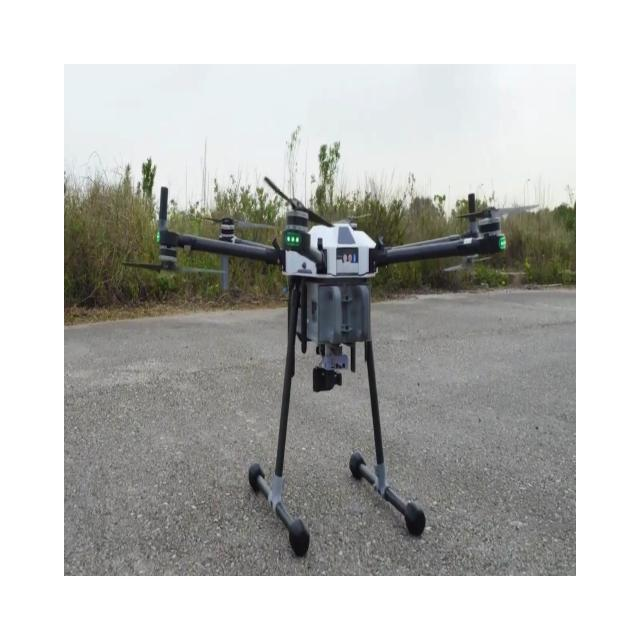drone: (122, 174, 521, 556)
